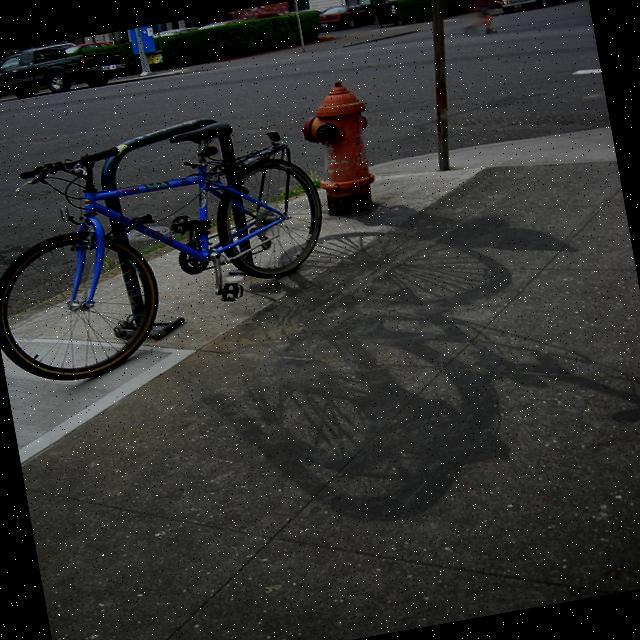fire_hydrant: (290, 75, 382, 218)
